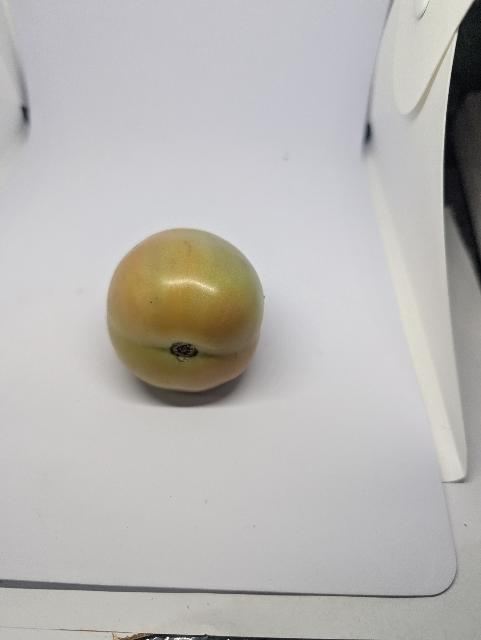breaker: (104, 225, 267, 394)
